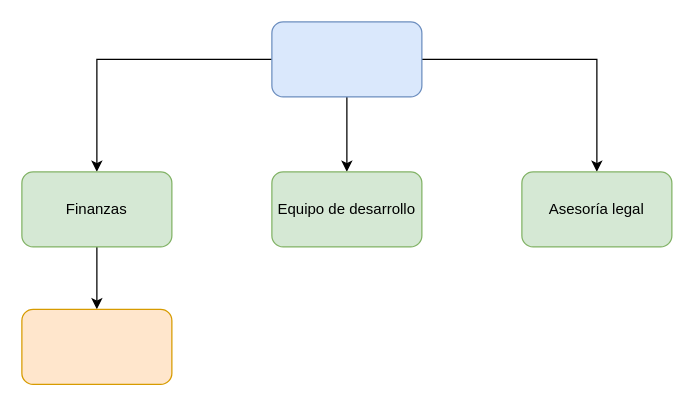
Some shapes in this 694 by 406 pixel diagram are drawn without their labels. The box of each missing label's shape, as (x1, y1, x2, y2) in pixels:
Comercial: (21, 308, 172, 384)
Gerencia general: (271, 21, 422, 97)
